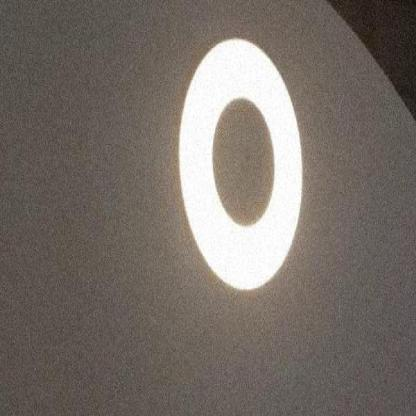light_on: (167, 14, 324, 318)
